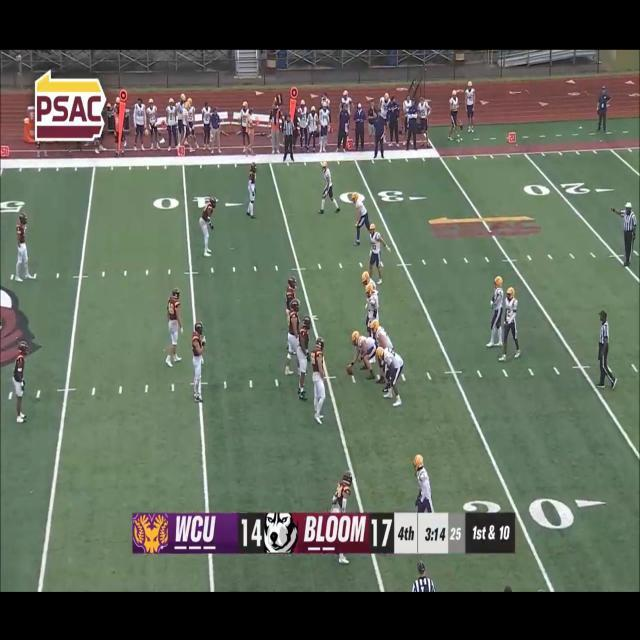football: (344, 361, 356, 378)
